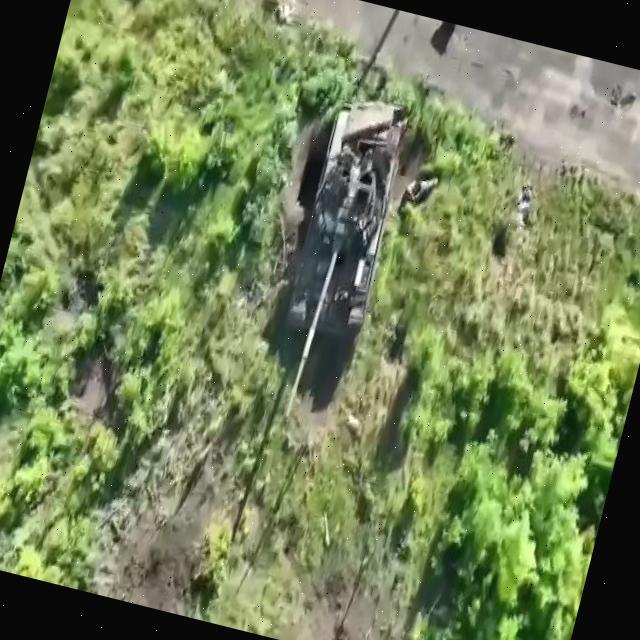MBT: (258, 86, 421, 437)
